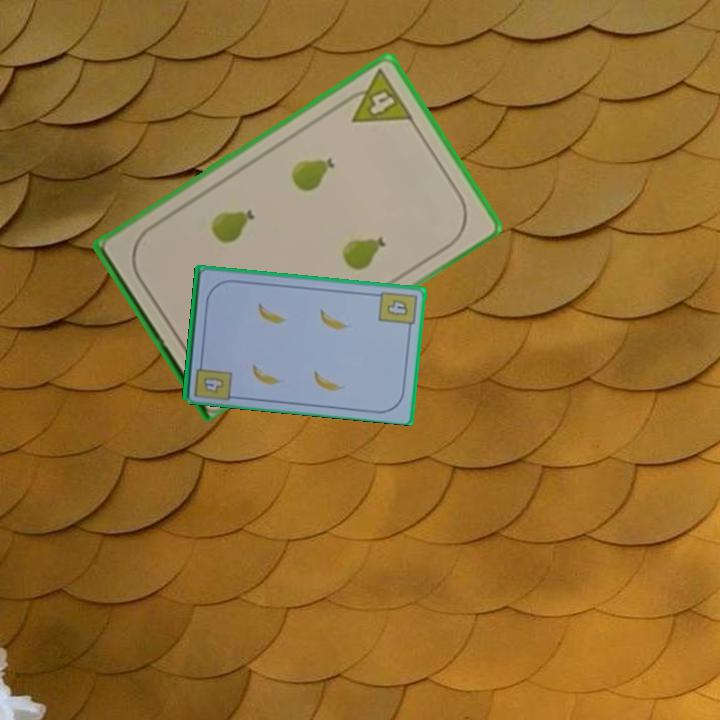4b: (375, 287, 419, 334), (200, 373, 227, 396)
4p: (337, 65, 416, 126)
